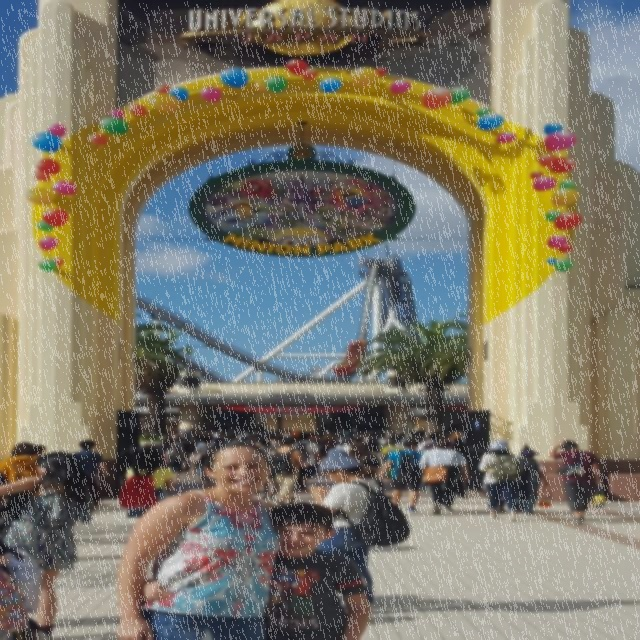pessoa: (111, 436, 286, 639), (0, 448, 99, 636), (256, 500, 375, 640), (308, 445, 384, 605), (376, 593, 636, 616), (548, 439, 606, 525), (118, 446, 176, 520), (418, 439, 473, 515), (377, 438, 430, 514), (0, 540, 44, 626), (477, 439, 521, 522), (166, 426, 462, 437), (265, 437, 311, 506), (68, 440, 110, 510), (514, 444, 551, 514), (0, 442, 44, 483), (291, 432, 321, 490), (255, 438, 278, 500), (364, 441, 388, 481), (346, 440, 380, 468), (479, 483, 507, 515), (165, 443, 186, 482), (197, 436, 215, 476), (156, 437, 176, 466), (414, 434, 441, 454), (198, 449, 213, 485), (320, 434, 340, 458), (186, 439, 200, 473), (222, 437, 262, 447), (381, 440, 402, 456), (334, 436, 352, 454), (450, 438, 466, 456), (29, 443, 47, 458), (177, 438, 191, 453), (320, 437, 327, 461), (416, 437, 429, 445), (169, 432, 179, 441), (276, 437, 283, 445)
